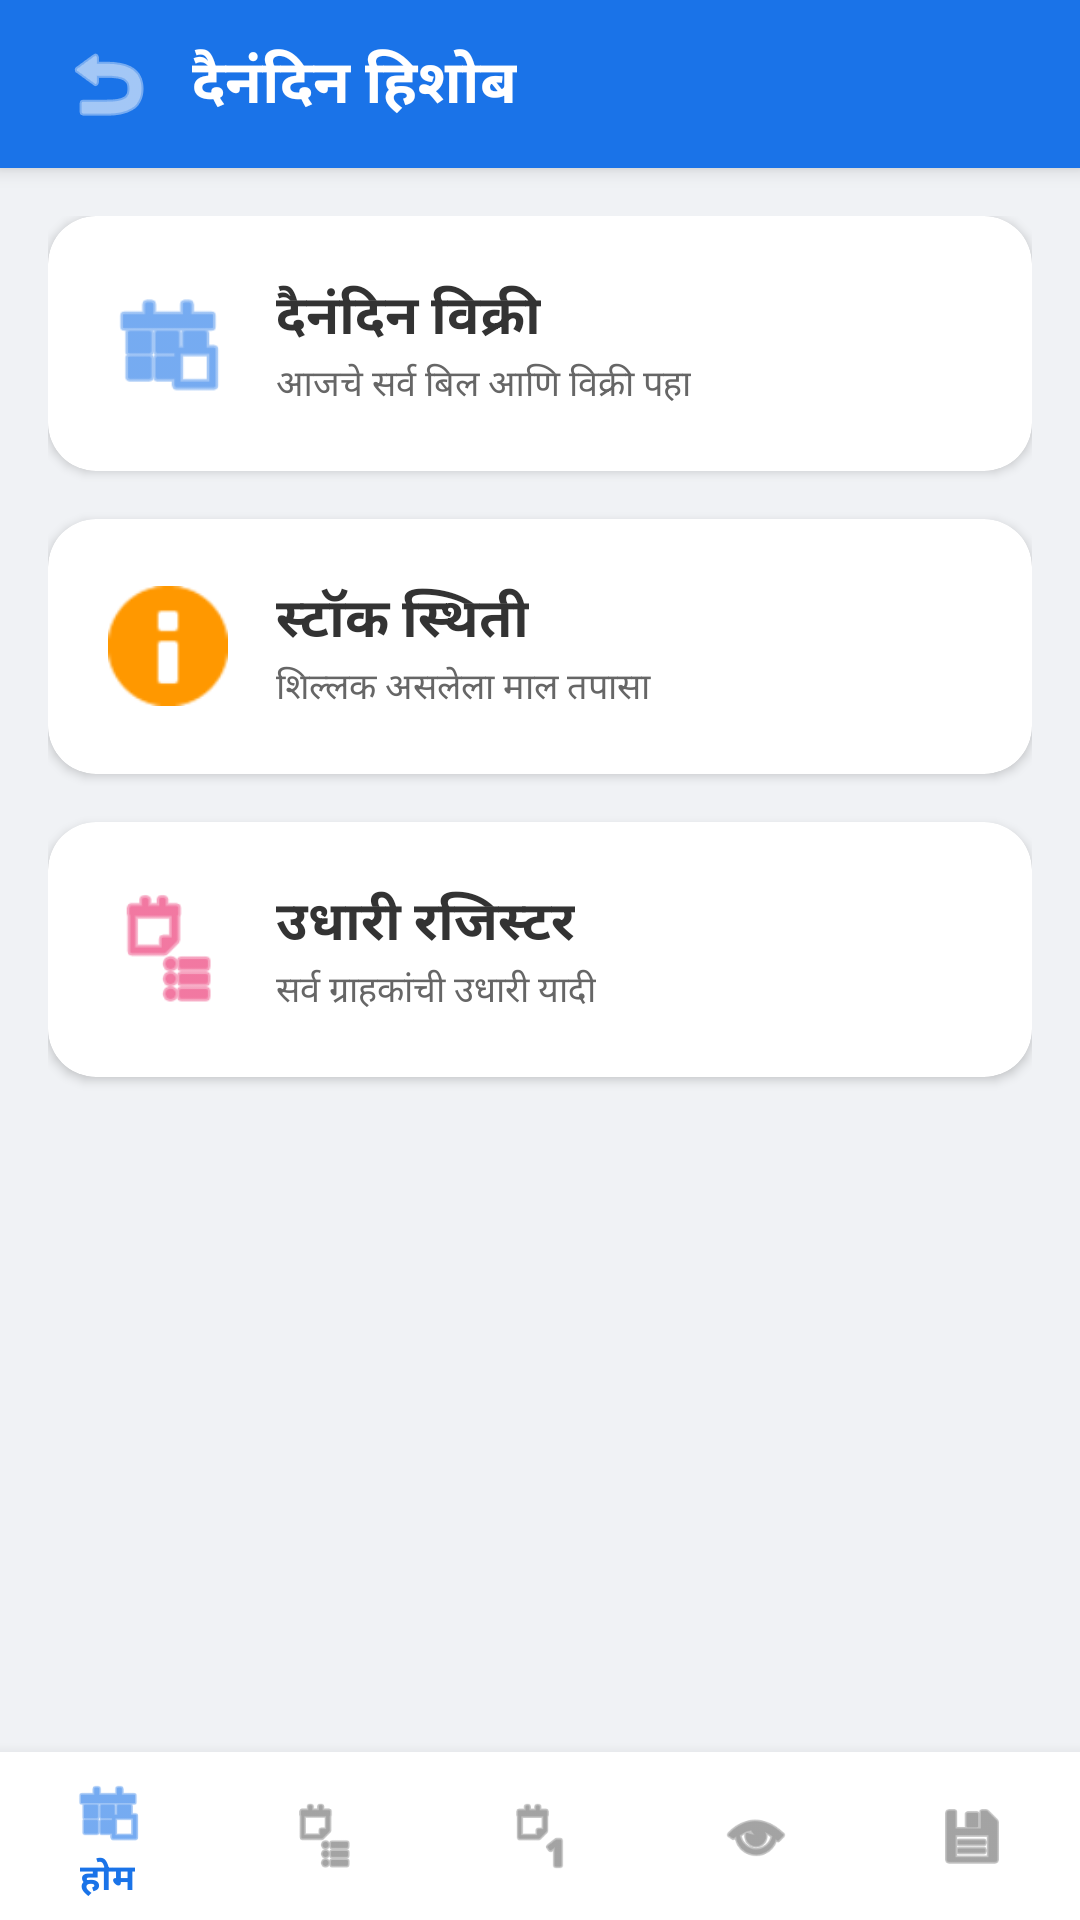

Where icons sit on this 1080px x 1920px app screen, as (x1, y1, x2, y2):
agenda: (126, 895, 211, 1002)
info: (108, 586, 228, 706)
revert: (75, 53, 144, 116)
